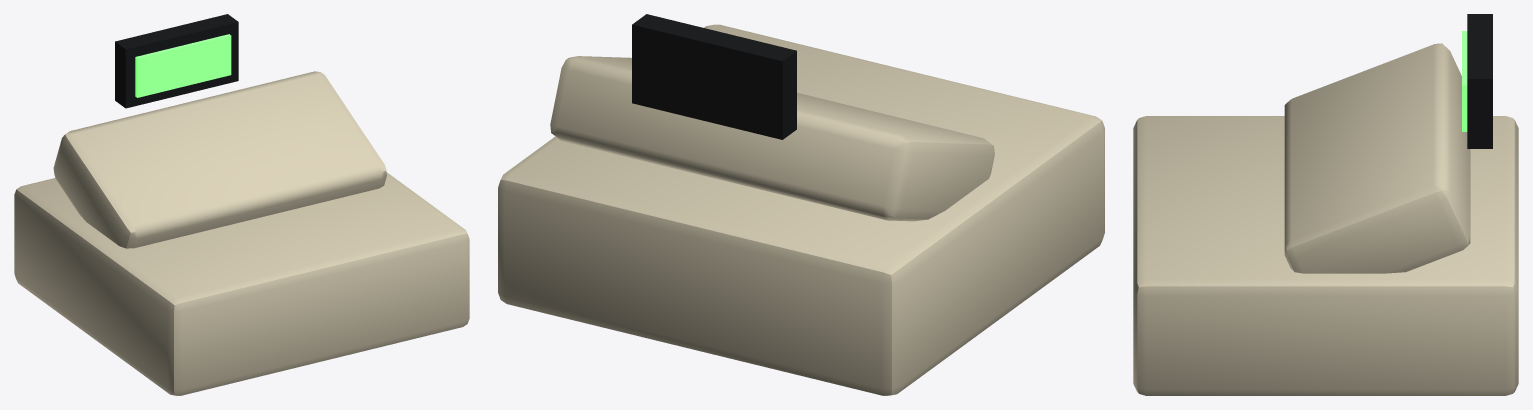
Rendered from register.glb.
The picture shows the model from 3 angles, left to right: view 1: azimuth 30°, elevation 25°; view 2: azimuth 150°, elevation 25°; view 3: azimuth 270°, elevation 25°; orthographic projection. The views are drawn at different scales.
Parts seen in each view (by area): view 1: reg, screen; view 2: reg; view 3: reg, screen.
Part boxes in pixels (x1,y1,x2,y2): reg: (14, 14, 469, 395); screen: (135, 34, 231, 97); reg: (498, 14, 1104, 395); reg: (1133, 14, 1518, 395); screen: (1462, 31, 1467, 131).
Size of the model in its own units: 0.32 by 0.23 by 0.3.
